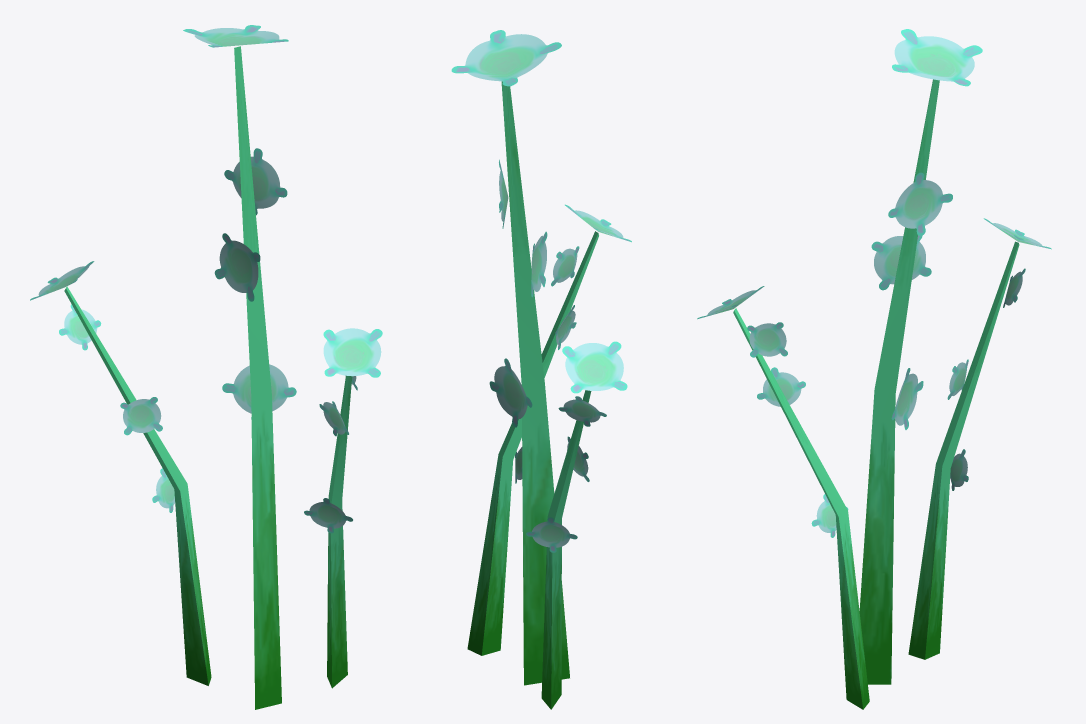
The model's file is Flower_3.fbx.
The picture shows the model from 3 angles, left to right: view 1: azimuth 30°, elevation 25°; view 2: azimuth 150°, elevation 25°; view 3: azimuth 270°, elevation 25°; orthographic projection. The views are drawn at different scales.
Parts seen in each view (by area): view 1: Flower_3; view 2: Flower_3; view 3: Flower_3.
Part boxes in pixels (<box>): Flower_3: <box>30,25,382,709</box>; Flower_3: <box>451,30,631,709</box>; Flower_3: <box>697,29,1051,709</box>.
Size of the model in its own units: 0.4522 by 1.12 by 0.6204.
